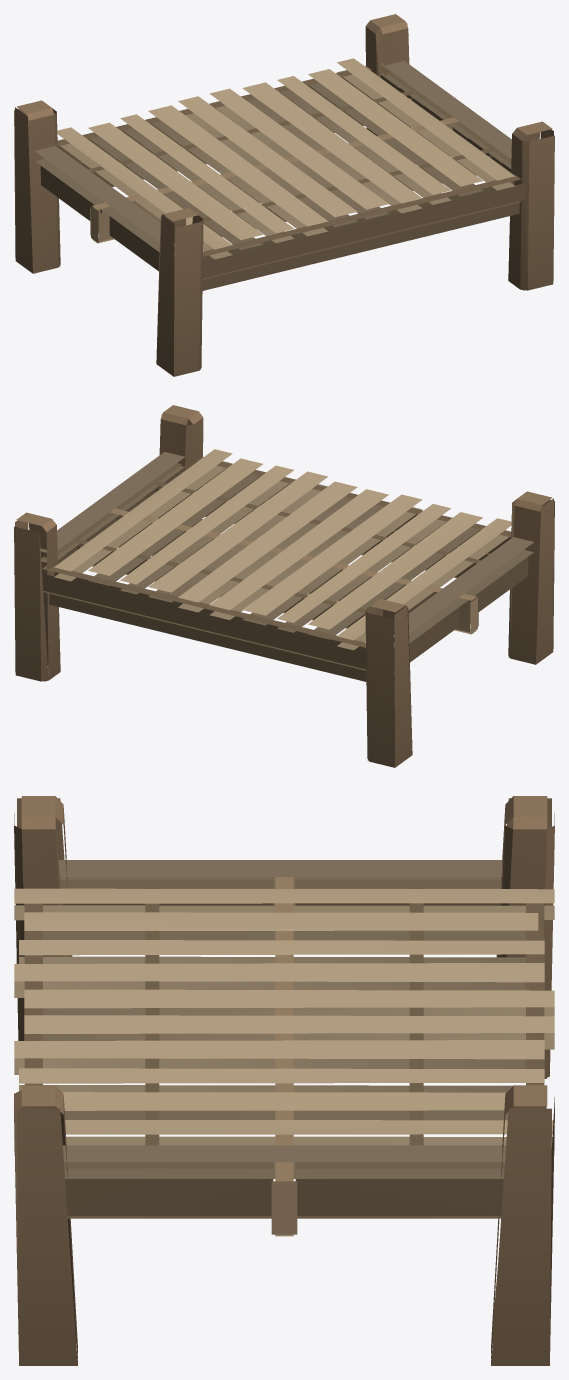
Rendered from pier.lod.glb.
3 views of the same model, one above another, from view 1: azimuth 30°, elevation 25°; view 2: azimuth 150°, elevation 25°; view 3: azimuth 270°, elevation 25° (orthographic). The views are drawn at different scales.
Parts seen in each view (by area): view 1: pier; view 2: pier; view 3: pier.
Part boxes in pixels (x1,y1,x2,y2): pier: [14, 14, 554, 376]; pier: [14, 405, 554, 767]; pier: [14, 796, 554, 1365].
Bounding box in the file's own units: 4 × 1.56 × 2.95.
